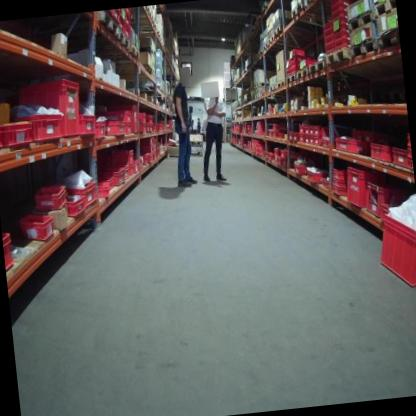pallet: (96, 9, 119, 41), (346, 10, 375, 32), (349, 39, 379, 59), (323, 46, 351, 66), (376, 27, 400, 49), (372, 0, 397, 19), (117, 28, 130, 51), (289, 1, 305, 19), (307, 59, 325, 74), (127, 42, 140, 61), (273, 24, 284, 39), (295, 69, 309, 80), (303, 0, 321, 8), (285, 74, 296, 85), (275, 78, 285, 89), (267, 33, 275, 45), (262, 41, 269, 51), (269, 84, 276, 91)
small_load_carrier: (13, 71, 87, 144), (373, 209, 416, 291), (340, 161, 375, 213), (365, 179, 401, 221), (15, 210, 56, 243), (31, 178, 72, 210), (31, 108, 67, 144), (1, 117, 35, 148), (331, 134, 367, 161), (69, 179, 101, 209), (98, 163, 129, 190), (74, 111, 99, 141), (368, 141, 394, 169), (2, 230, 17, 274), (64, 195, 88, 219), (390, 142, 408, 172), (102, 106, 132, 124), (104, 118, 127, 138), (93, 118, 111, 143), (128, 103, 140, 137), (96, 173, 116, 190), (306, 168, 325, 185), (112, 147, 134, 161), (332, 184, 350, 201), (94, 184, 111, 201), (331, 40, 352, 53), (121, 121, 134, 137), (330, 16, 348, 27), (331, 167, 346, 179), (125, 164, 135, 182), (333, 32, 351, 42), (312, 124, 324, 139), (0, 121, 5, 154), (331, 25, 349, 34), (332, 177, 345, 189), (294, 161, 307, 173), (323, 43, 337, 54), (288, 50, 300, 61), (135, 110, 145, 123), (321, 20, 334, 30), (133, 157, 141, 173), (144, 151, 153, 165), (135, 122, 146, 132), (124, 164, 130, 178), (324, 36, 336, 43), (314, 138, 324, 146), (293, 132, 301, 142), (305, 135, 313, 144), (305, 124, 313, 133), (298, 134, 307, 142), (289, 132, 297, 141), (406, 147, 411, 161), (324, 29, 334, 36), (308, 125, 316, 133), (405, 133, 410, 145), (299, 126, 306, 131), (310, 140, 315, 145)
